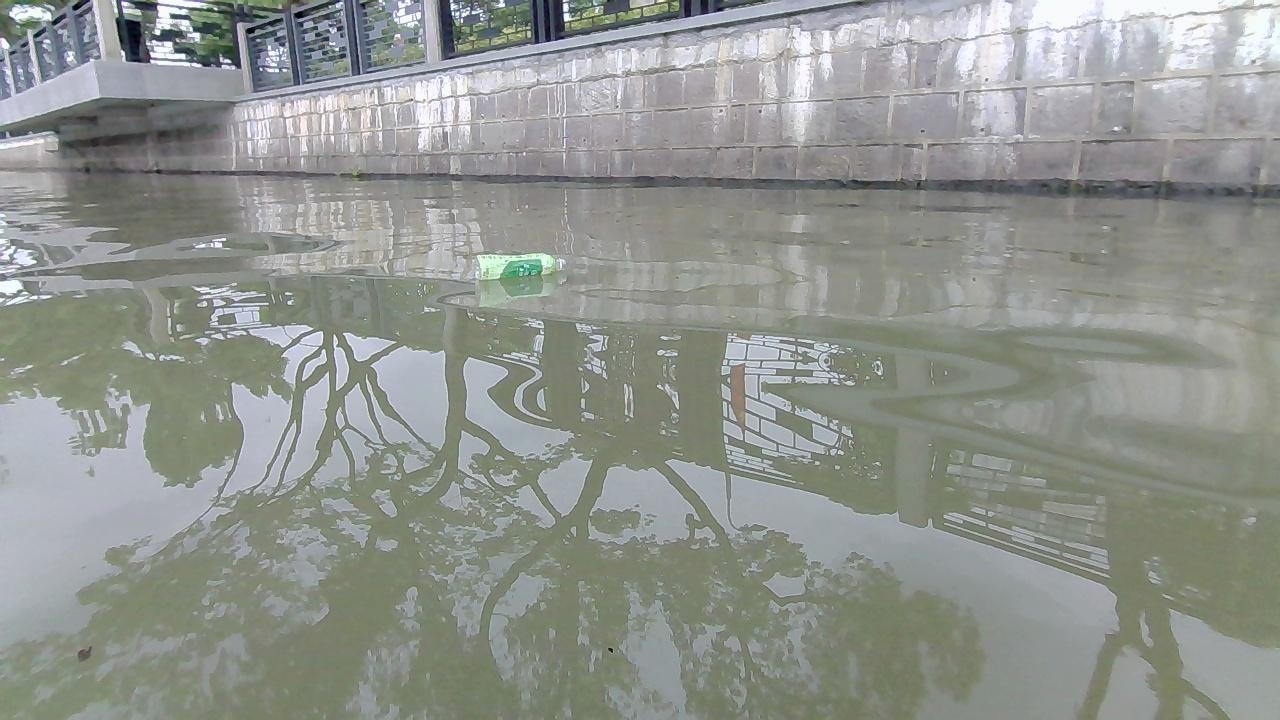bottle: (467, 250, 567, 277)
